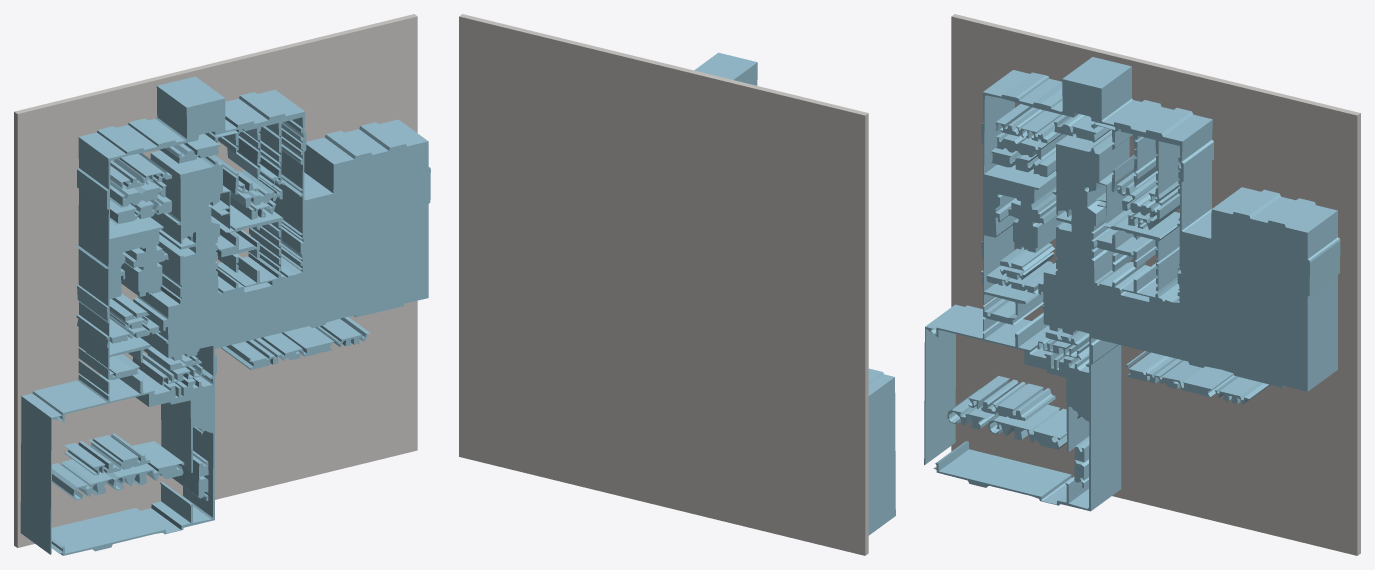
3 renders of one model, left to right at view 1: azimuth 30°, elevation 25°; view 2: azimuth 150°, elevation 25°; view 3: azimuth 330°, elevation 25°, orthographic.
Parts seen in each view (by area): view 1: world; view 2: world; view 3: world.
Part boxes in pixels (x1,y1,x2,y2): world: (14, 14, 430, 555); world: (459, 14, 895, 555); world: (924, 14, 1360, 555).
Bounding box in the file's own units: 10.23 × 10.6 × 1.47.
